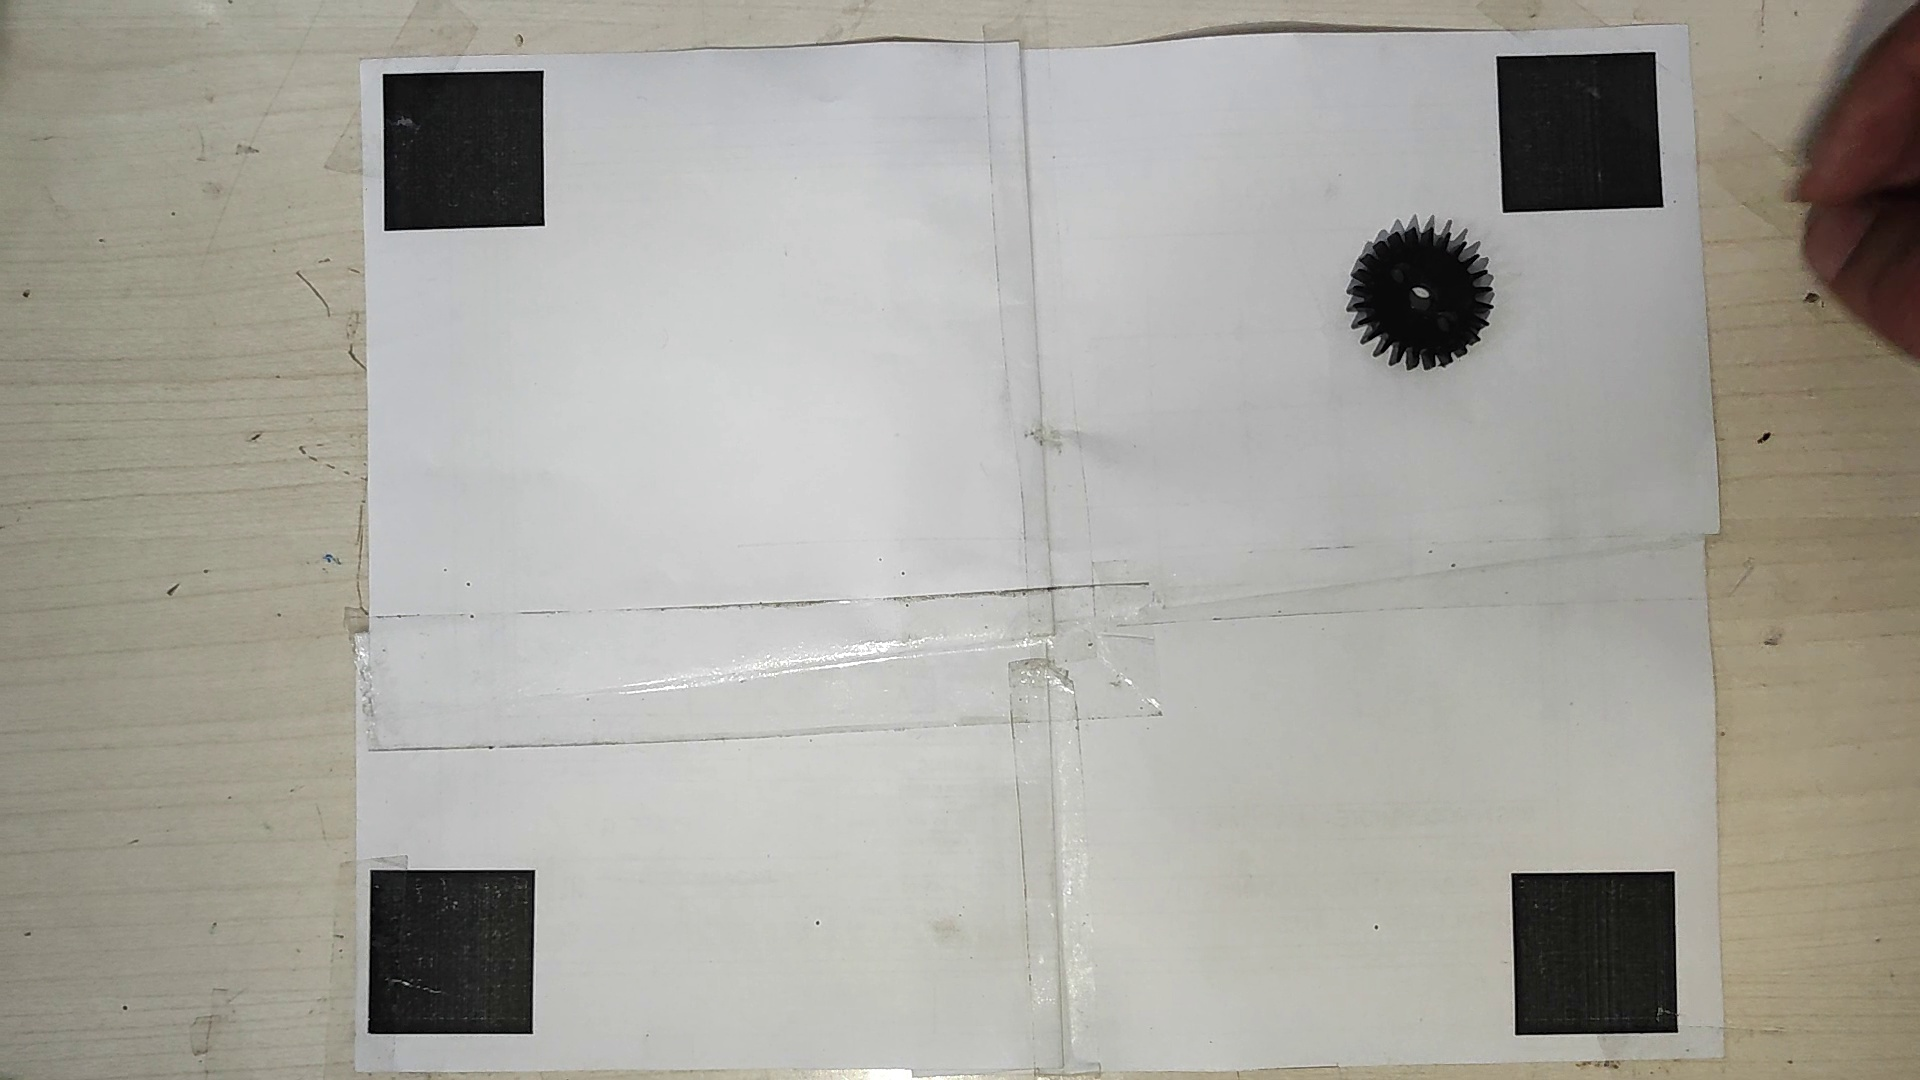Gear: (1342, 211, 1490, 371)
